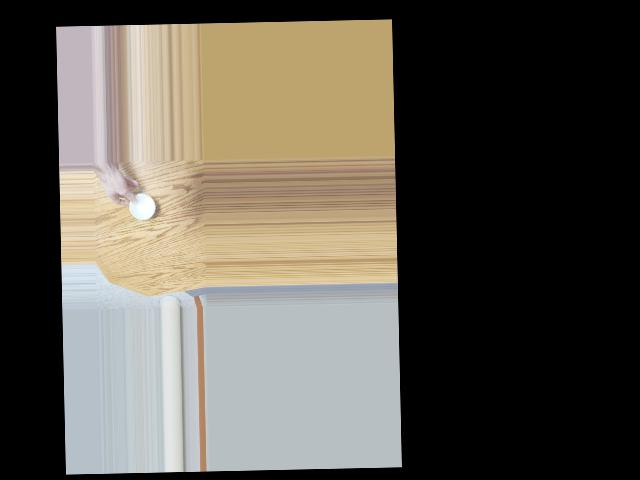cotage: (125, 190, 154, 220)
